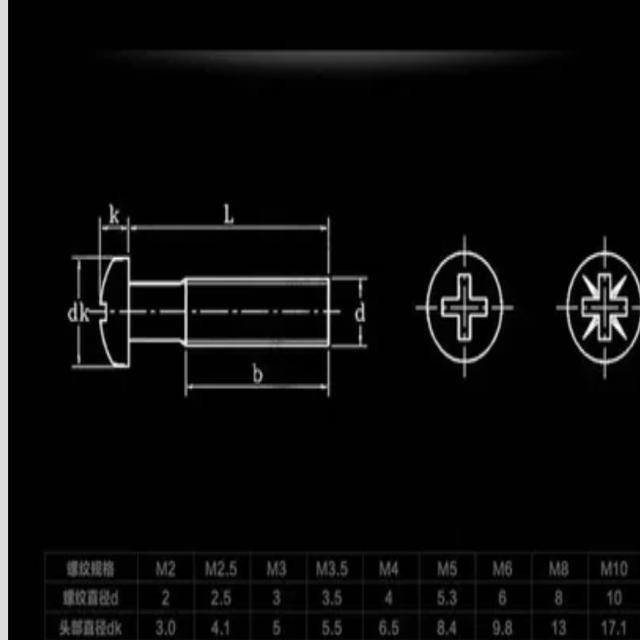marking_line: (136, 214, 332, 277), (182, 350, 331, 399), (71, 247, 97, 369), (334, 272, 370, 349), (96, 218, 131, 252)
